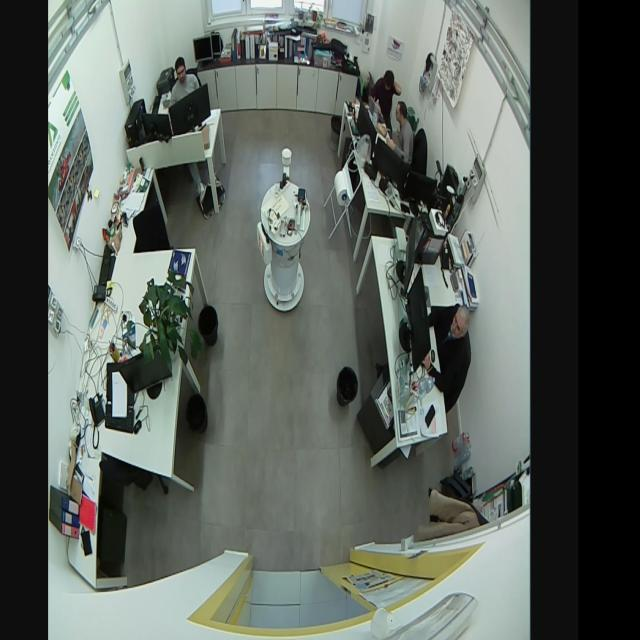Persona: (426, 299, 474, 396), (369, 67, 404, 128), (168, 52, 202, 112), (390, 98, 417, 168)
